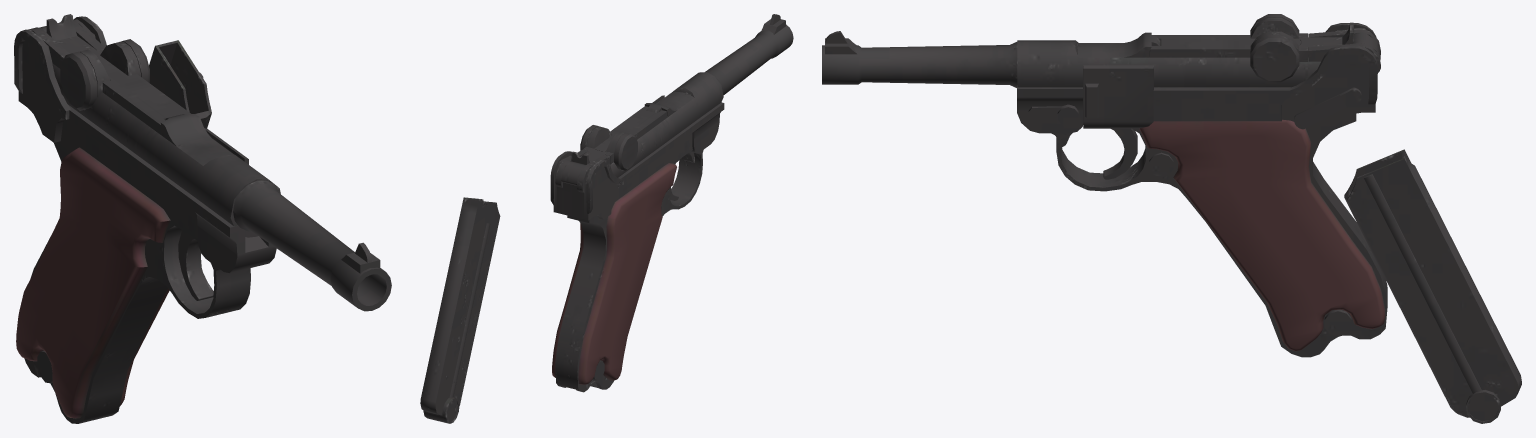
Rendered from luger_hi.glb.
3 renders of one model, left to right at view 1: azimuth 30°, elevation 25°; view 2: azimuth 150°, elevation 25°; view 3: azimuth 270°, elevation 25°, orthographic. The views are drawn at different scales.
Parts seen in each view (by area): view 1: Body, Barrel, Slide, Part3, Clip, Part2, Part1, Trigger; view 2: Body, Clip, Slide, Barrel, Part3, Part2, Part1; view 3: Body, Clip, Barrel, Slide, Part3, Part2, Part1, Trigger.
Part boxes in pixels (x1=…): Body: x1=14, y1=16, x2=276, y2=423; Barrel: x1=233, y1=180, x2=391, y2=311; Slide: x1=52, y1=63, x2=280, y2=237; Part3: x1=39, y1=14, x2=149, y2=110; Clip: x1=149, y1=40, x2=211, y2=128; Part2: x1=96, y1=55, x2=190, y2=135; Part1: x1=160, y1=114, x2=233, y2=165; Trigger: x1=178, y1=230, x2=213, y2=300; Body: x1=550, y1=95, x2=724, y2=392; Clip: x1=420, y1=197, x2=500, y2=423; Slide: x1=610, y1=72, x2=723, y2=177; Barrel: x1=705, y1=14, x2=793, y2=95; Part3: x1=561, y1=125, x2=637, y2=185; Part2: x1=594, y1=106, x2=667, y2=151; Part1: x1=644, y1=92, x2=693, y2=116; Body: x1=1017, y1=23, x2=1387, y2=357; Clip: x1=1344, y1=149, x2=1521, y2=423; Barrel: x1=822, y1=31, x2=1017, y2=87; Slide: x1=1017, y1=40, x2=1320, y2=87; Part3: x1=1250, y1=14, x2=1380, y2=82; Part2: x1=1149, y1=35, x2=1301, y2=57; Part1: x1=1077, y1=32, x2=1160, y2=57; Trigger: x1=1061, y1=128, x2=1137, y2=179.
Bounding box in the file's own units: 0.0772 × 0.1546 × 0.2938.
Materials: 1 (1 with a texture image).
